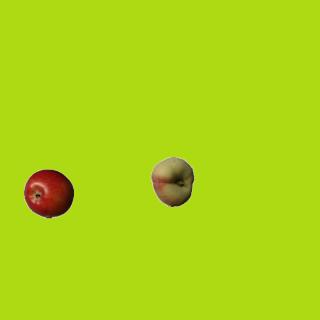Apple Braeburn: (23, 168, 73, 218)
Peach Flat: (147, 156, 197, 206)
